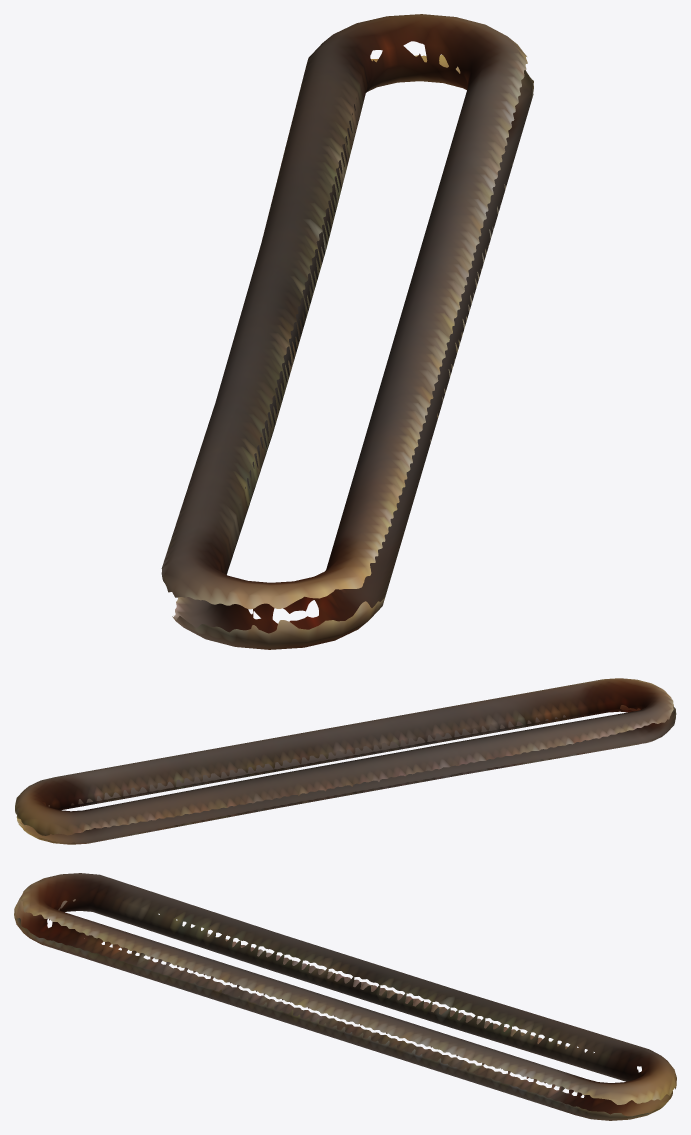
File: lrubber1.fbx
The picture shows the model from 3 angles, top to bottom: view 1: azimuth 30°, elevation 25°; view 2: azimuth 150°, elevation 25°; view 3: azimuth 270°, elevation 25°; orthographic projection. The views are drawn at different scales.
Visible parts, largest first — view 1: lrubber1; view 2: lrubber1; view 3: lrubber1.
Boxes of the visible parts, <box> form: lrubber1: <box>161,14,533,649</box>; lrubber1: <box>15,678,676,844</box>; lrubber1: <box>14,873,676,1120</box>.
Size of the model in its own units: 7.12 by 0.5054 by 8.82.
1 material, 1 textured.
